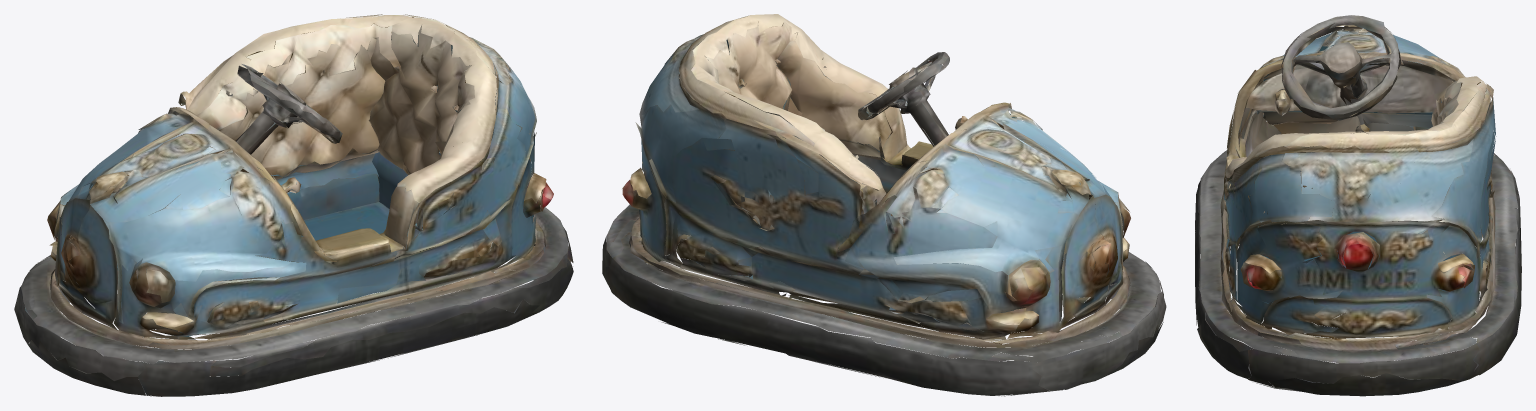
Rendered from park-bumper-blue.glb.
The picture shows the model from 3 angles, left to right: view 1: azimuth 30°, elevation 25°; view 2: azimuth 150°, elevation 25°; view 3: azimuth 270°, elevation 25°; orthographic projection. The views are drawn at different scales.
Parts seen in each view (by area): view 1: geometry_0; view 2: geometry_0; view 3: geometry_0.
Boxes of the visible parts, x1,y1,x2,y2 form: geometry_0: (14, 14, 573, 396); geometry_0: (602, 14, 1166, 396); geometry_0: (1195, 15, 1521, 396).
Bounding box in the file's own units: 1.2 × 0.5556 × 0.6795.
Materials: 1 (1 with a texture image).
